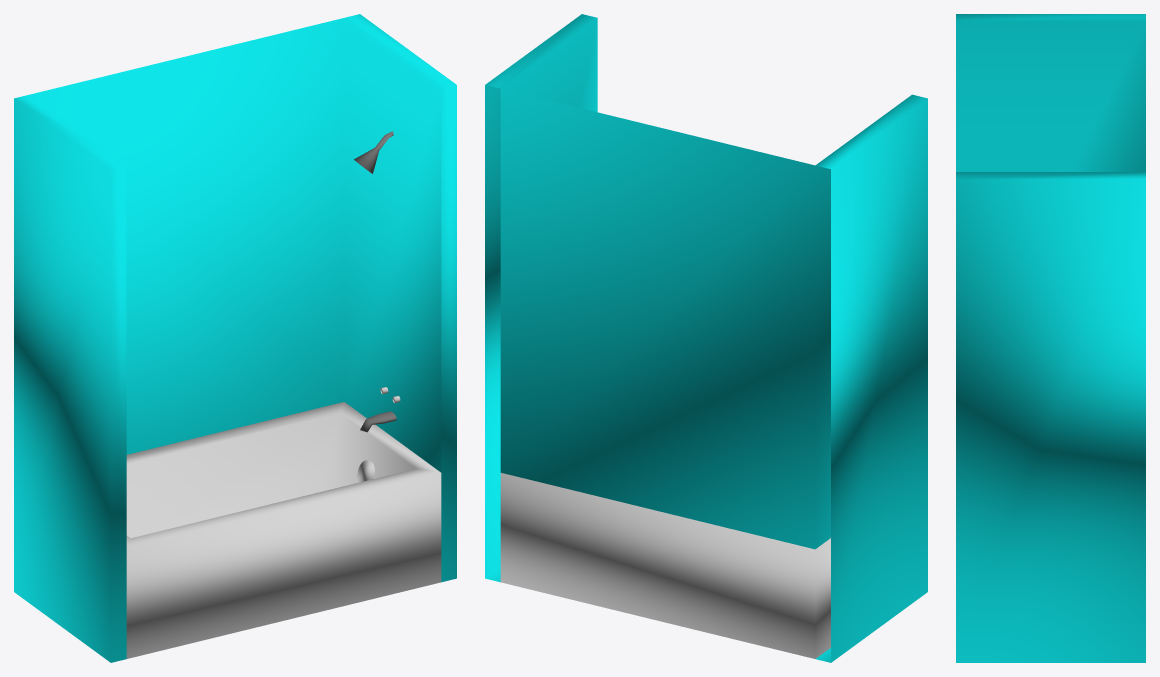
Rendered from bathtub.fbx.
The picture shows the model from 3 angles, left to right: view 1: azimuth 30°, elevation 25°; view 2: azimuth 150°, elevation 25°; view 3: azimuth 270°, elevation 25°; orthographic projection. The views are drawn at different scales.
Parts seen in each view (by area): view 1: Tub; view 2: Tub; view 3: Tub.
Part boxes in pixels (box(x1,y1,x2,y2)): Tub: box(14, 14, 456, 662); Tub: box(485, 14, 927, 662); Tub: box(956, 14, 1145, 662).
Bounding box in the file's own units: 165 × 225 × 80.
